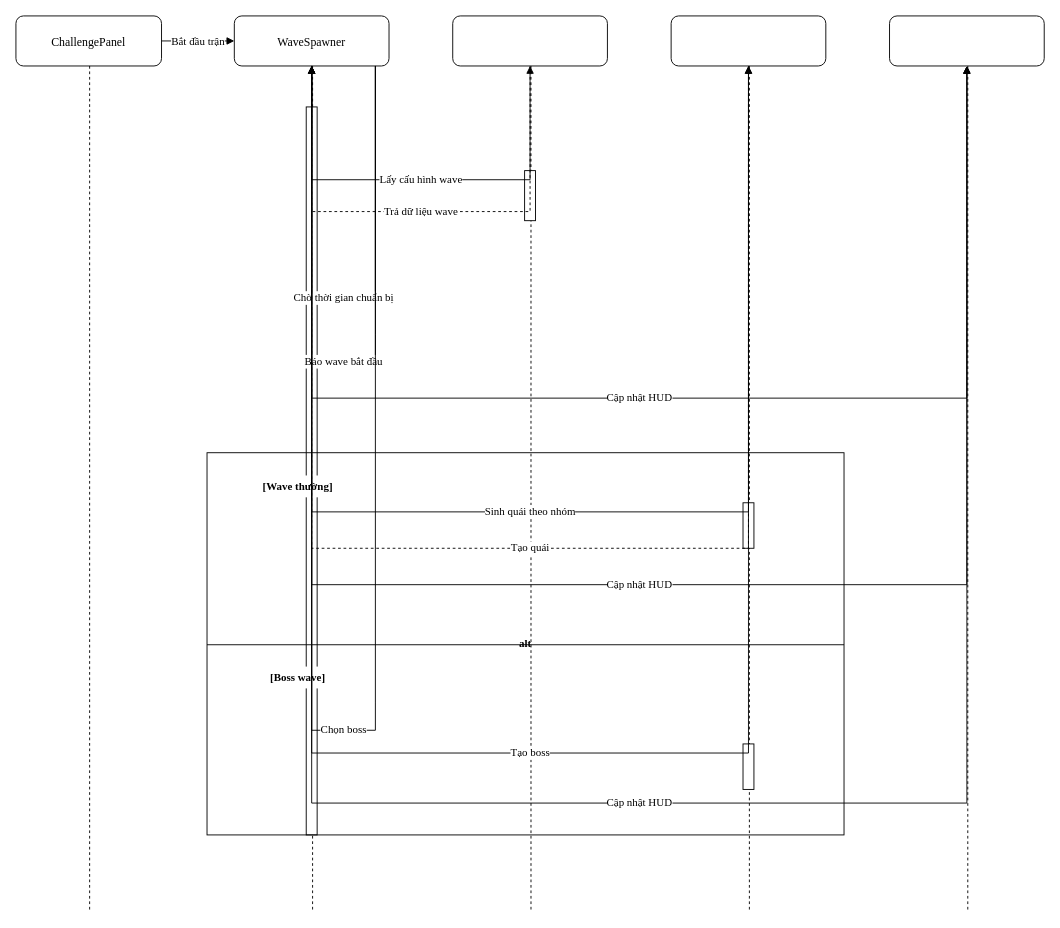
Image size: 1060x928. Some labels were removed from this diagram. Here are the shapes that lost their labels. From the top down, the centre of each, then its label:
At point (529, 40): "WaveConfig".
At point (748, 40): "ObjectPool".
At point (966, 40): "HUD".
